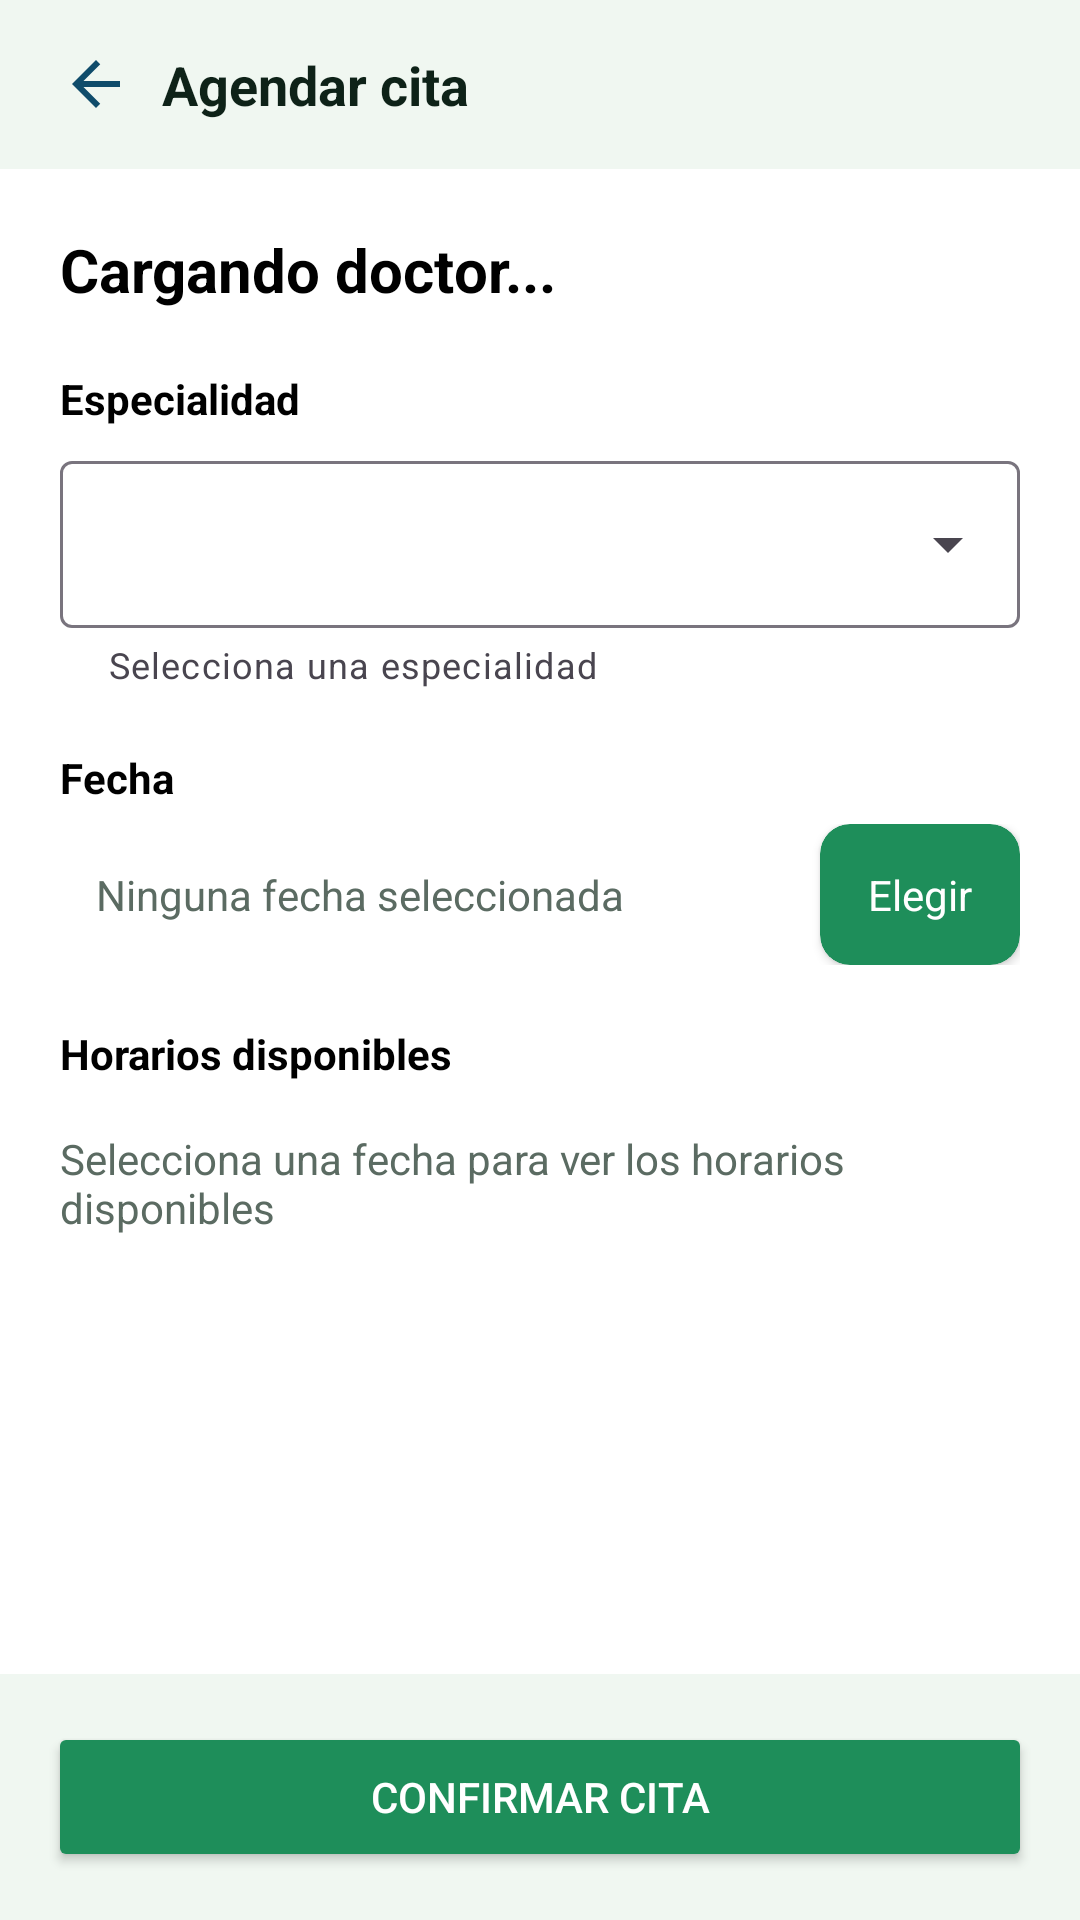

Screen size 1080px×1920px. Icon name, then its box in pixels as [x1, y1, x2, y2]:
arrow back: [72, 60, 120, 108]
